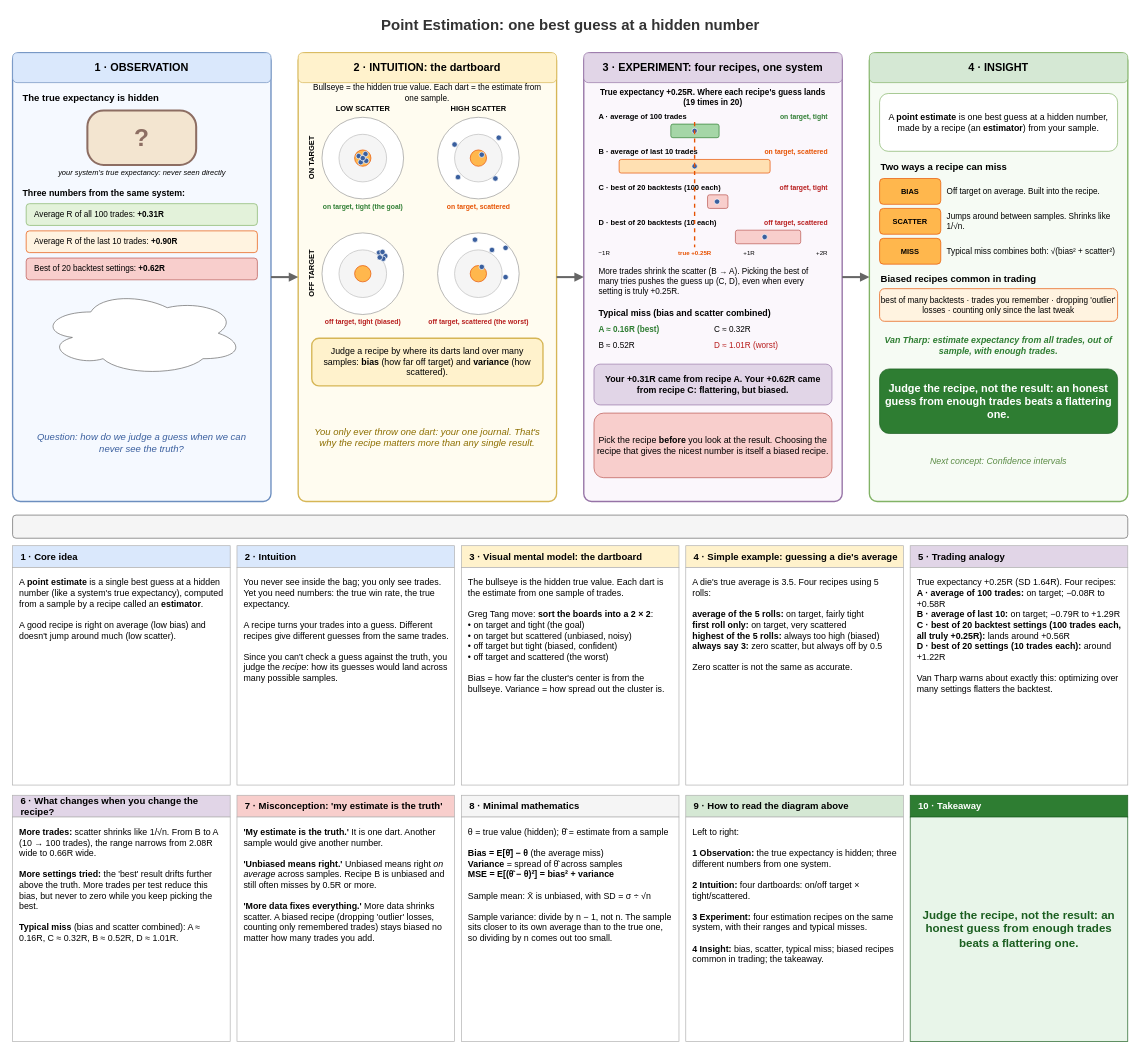
This 1140x1053 diagram has some shape labels left out. Here are the shapes that lost their labels. From the top down, the centre of each, then its label:
At point (141, 333): "Which number should I believe?".
At point (570, 526): "LESSON NOTES: the full explanation, for future reference".
